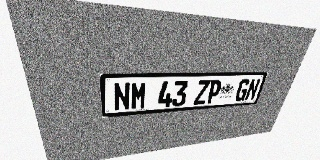3: (171, 80, 189, 107)
4: (157, 81, 174, 108)
G: (234, 79, 251, 102)
M: (130, 82, 147, 110)
N: (113, 82, 130, 111), (244, 78, 261, 101)
P: (205, 80, 223, 104)
Z: (193, 80, 210, 105)
